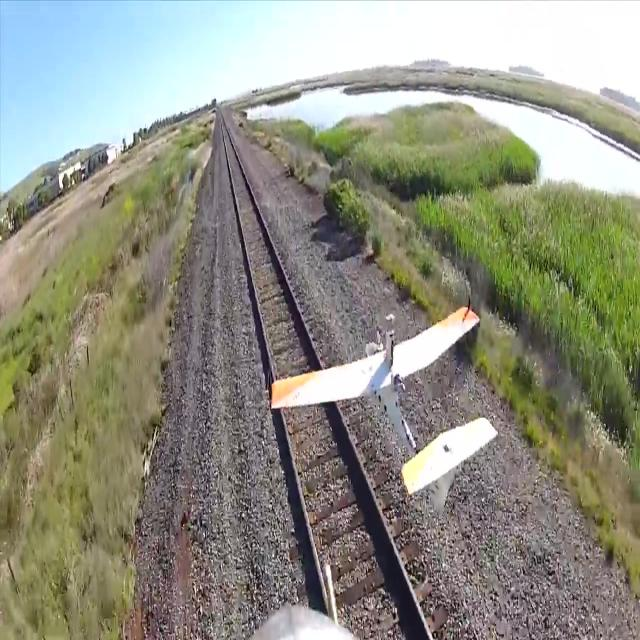iha: (267, 293, 498, 514)
